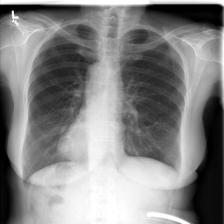normal: (18, 22, 187, 186)
